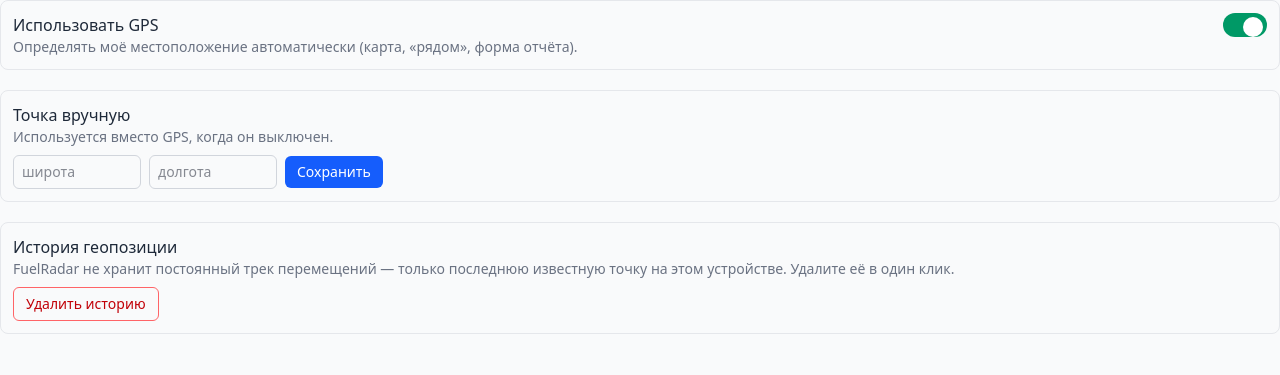
Test: PrivacySettings (R24) › «удалить историю» чистит последнюю известную позицию
The image size is (1280, 375).
Click the button "Удалить историю" at (86, 304), box [13,287,159,321]
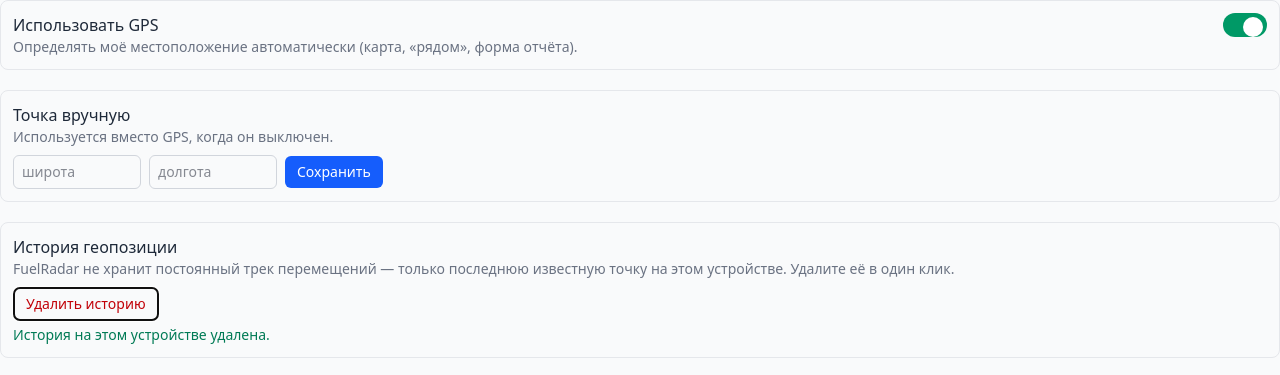
Check: the text "История на этом устройстве удалена." is shown, box [13,325,270,344]
